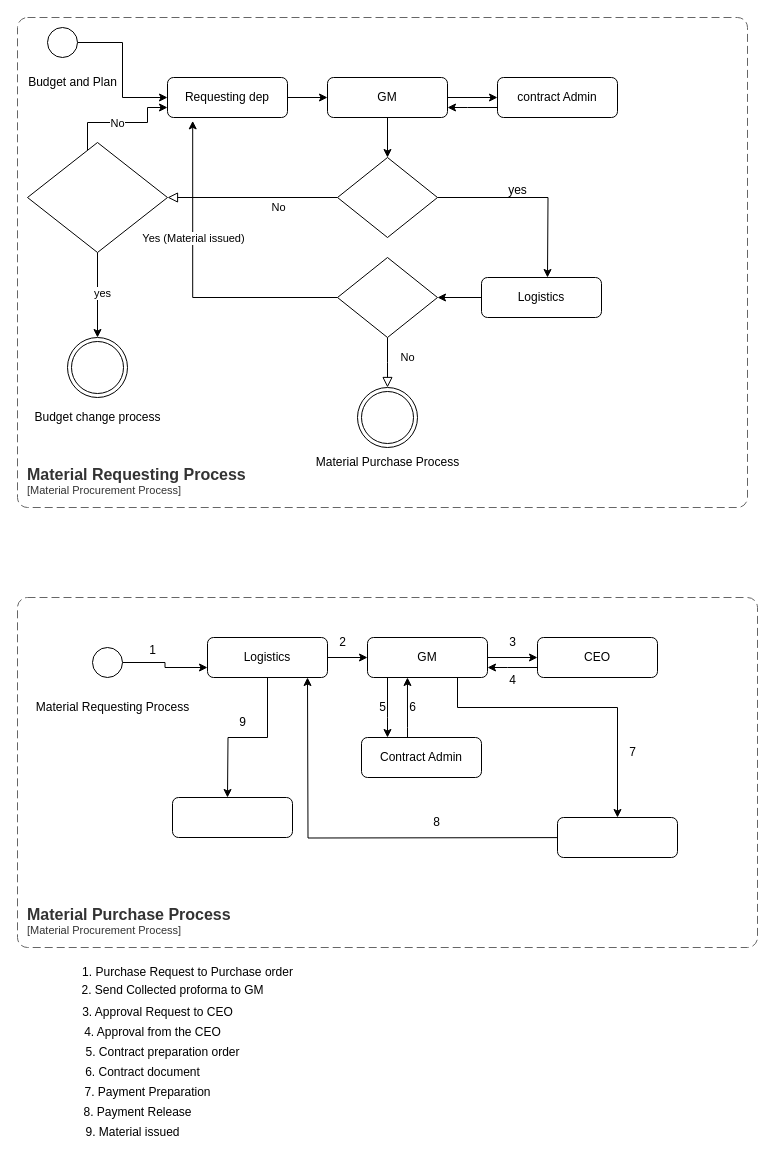
Some shapes in this 775 by 1165 pixel diagram are drawn without their labels. Each missing label, with the centre of its shape:
Finance: [617,837]
If budget change needed: [97,197]
If in budget: [387,197]
If in stock: [387,297]
Requesting Dep.: [232,817]
